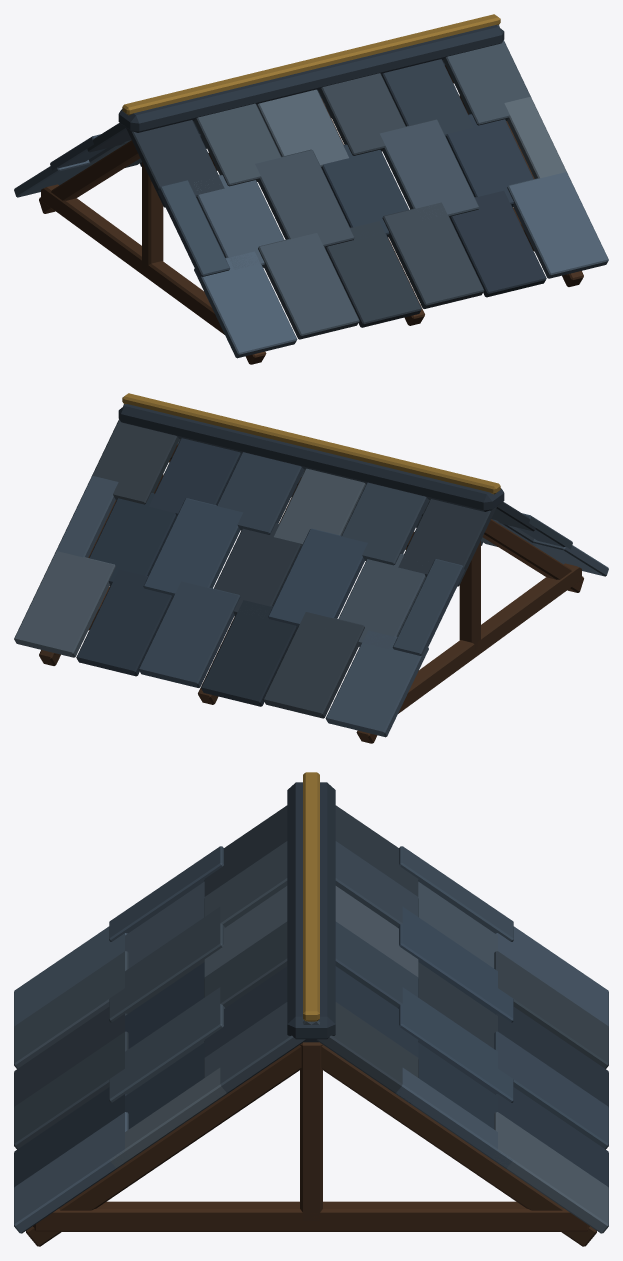
Rendered from piece_slatepeak.glb.
3 renders of one model, top to bottom at view 1: azimuth 30°, elevation 25°; view 2: azimuth 150°, elevation 25°; view 3: azimuth 270°, elevation 25°, orthographic. The views are drawn at different scales.
Parts seen in each view (by area): view 1: Base; view 2: Base; view 3: Base.
Boxes of the visible parts, x1=… form: Base: x1=14, y1=14, x2=608, y2=364; Base: x1=14, y1=393, x2=608, y2=743; Base: x1=14, y1=772, x2=608, y2=1246.
Size of the model in its own units: 4 by 1.92 by 4.17.
